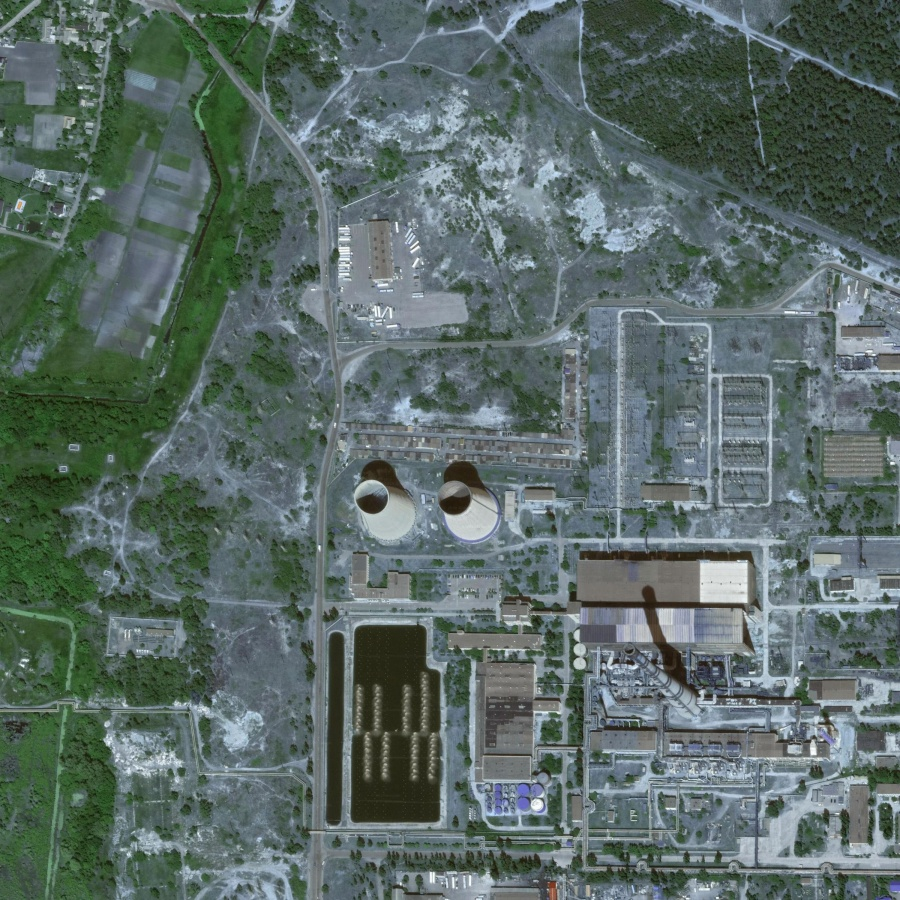PowerPlant: (315, 437, 768, 837)
